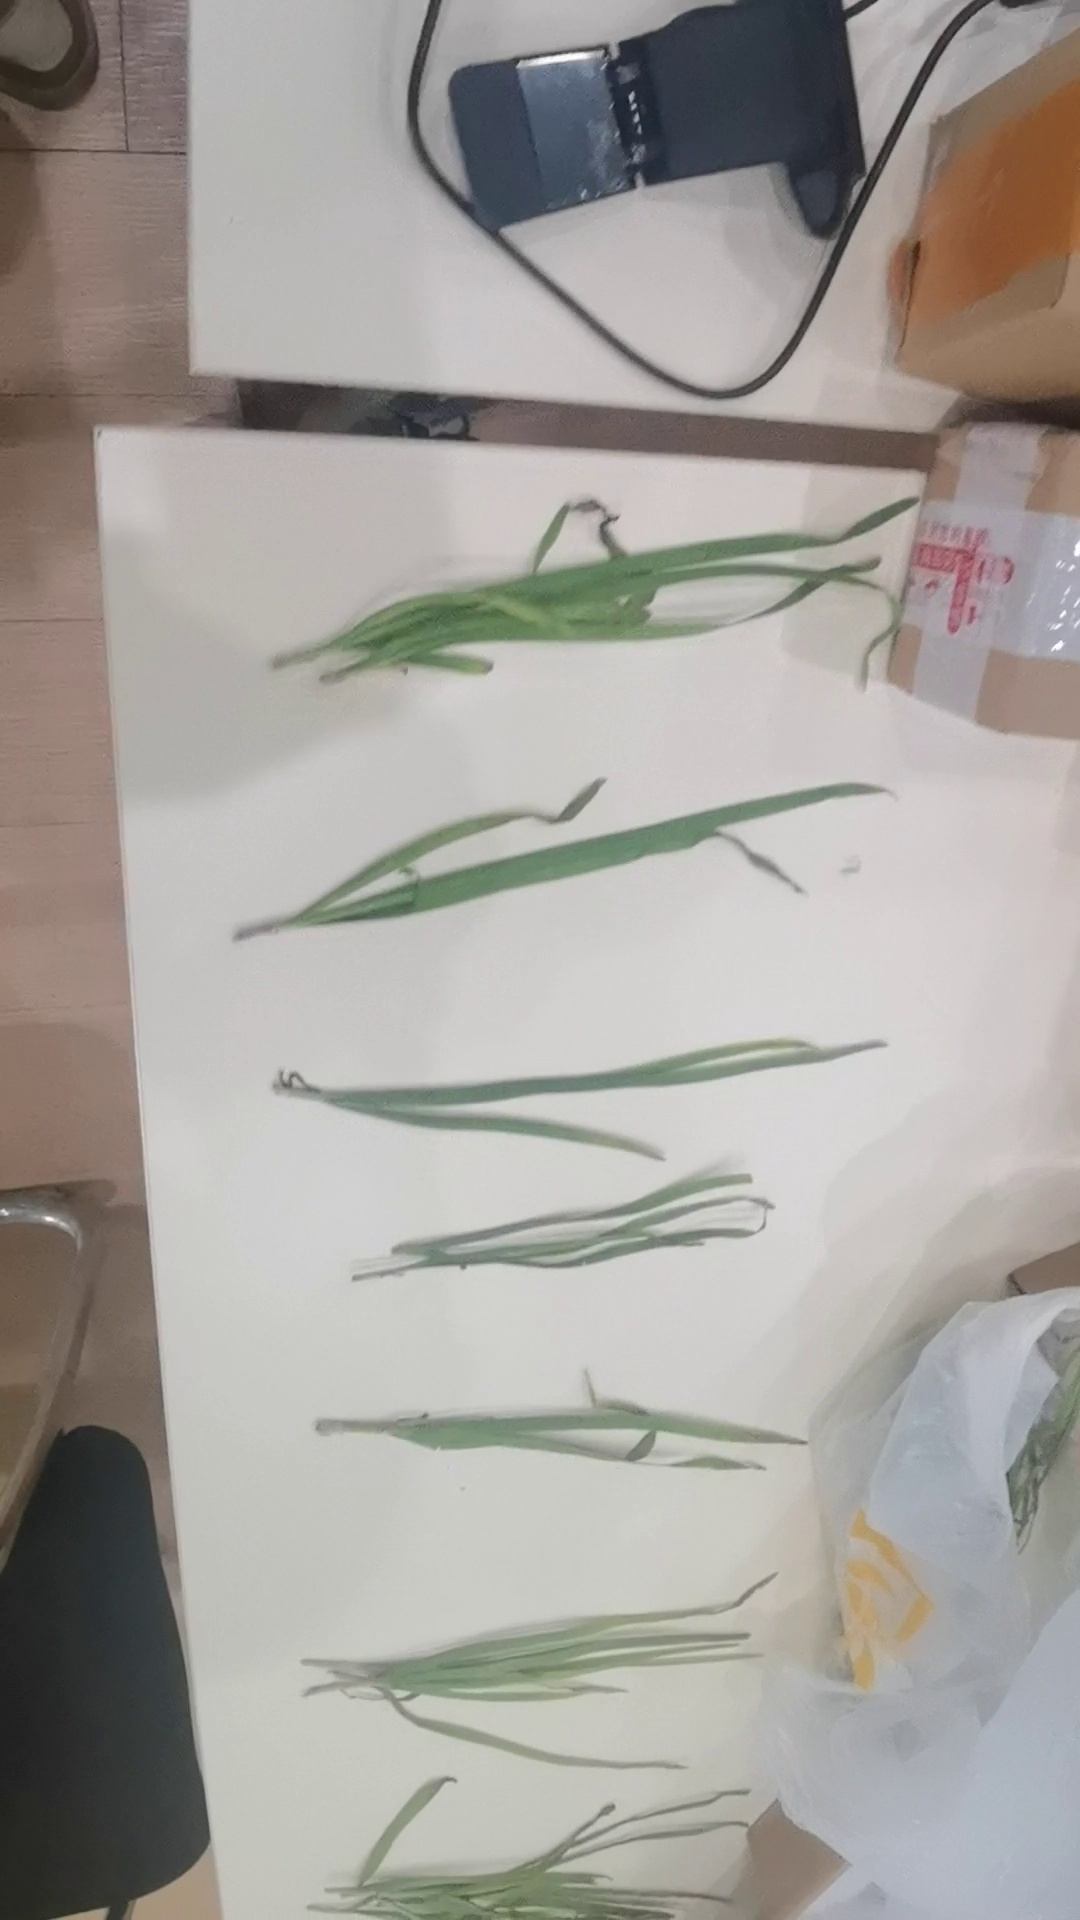chives: (225, 487, 953, 723), (200, 758, 905, 968), (257, 1031, 965, 1172), (302, 1578, 836, 1753), (291, 1778, 895, 1920), (280, 1370, 855, 1494), (338, 1168, 794, 1315)
